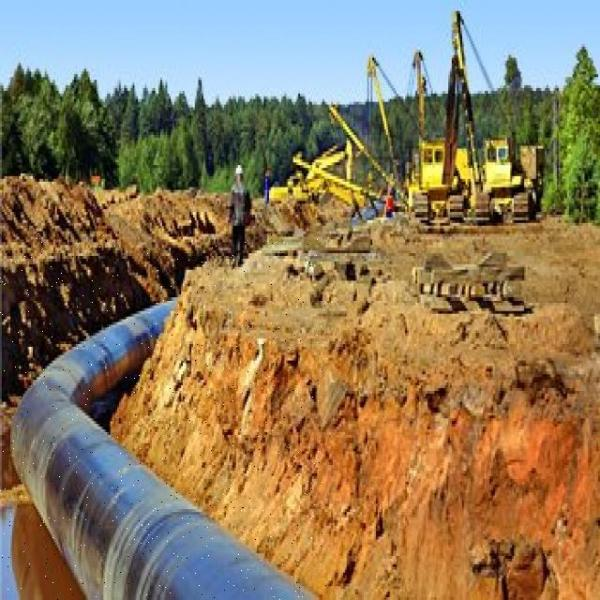no leak: (38, 334, 138, 392)
